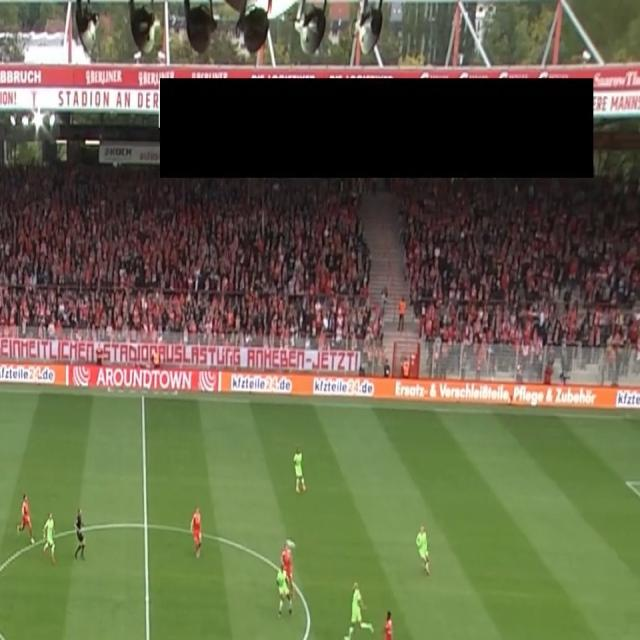ball: (286, 536, 296, 549)
